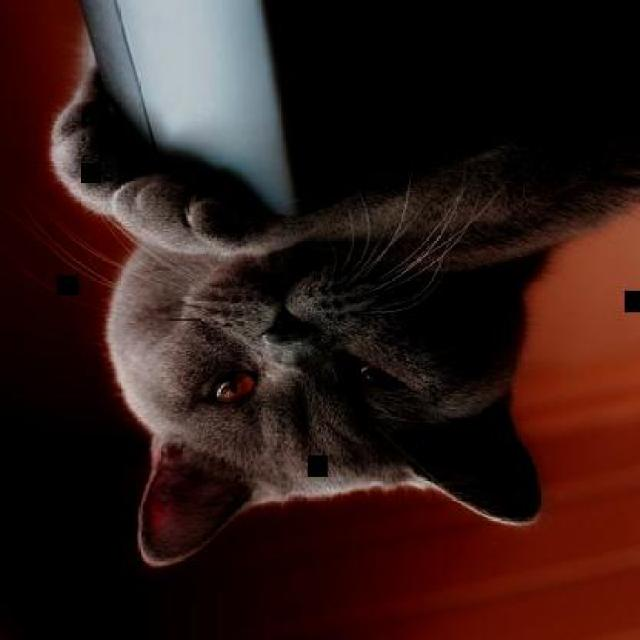cat: (48, 37, 640, 569)
